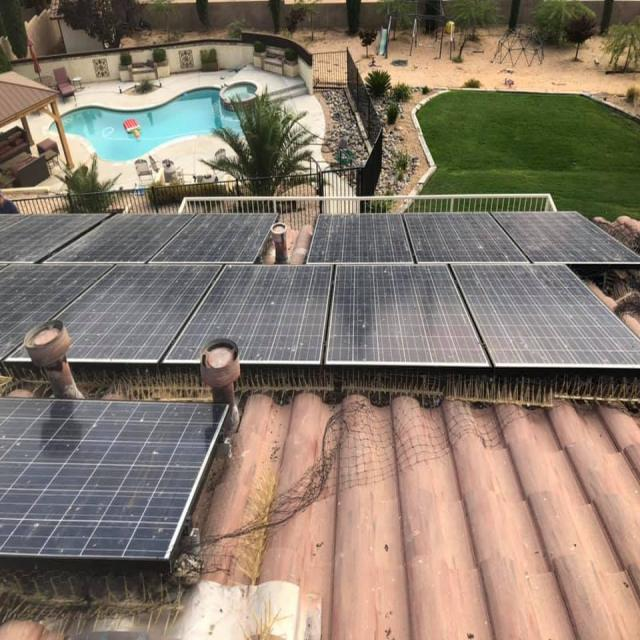dust-solar-panel: (0, 208, 640, 364), (0, 395, 227, 562)
